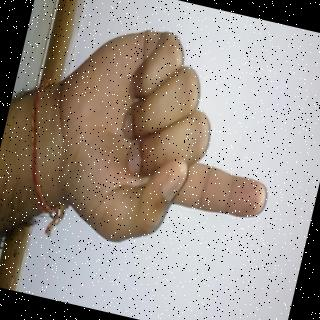I: (34, 18, 308, 273)
